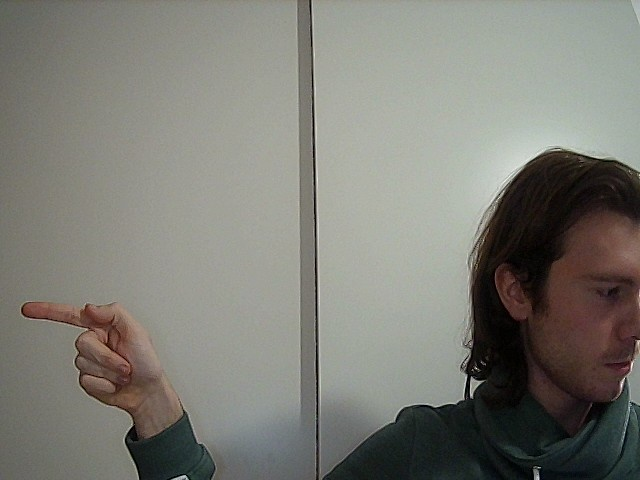g: (15, 288, 187, 436)
